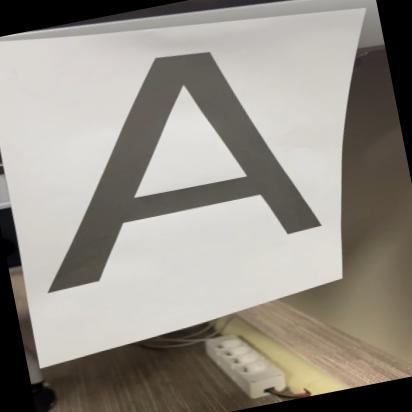seat: (4, 24, 342, 299)
